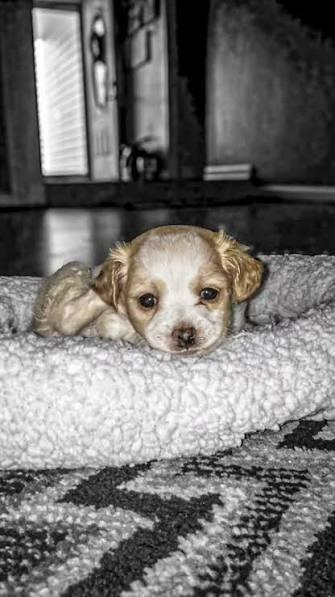puppy-dog: (32, 224, 267, 355)
